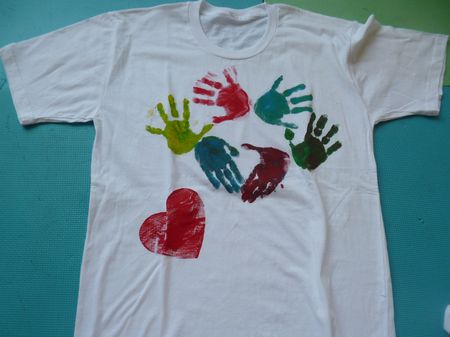flexible: (2, 2, 450, 335)
